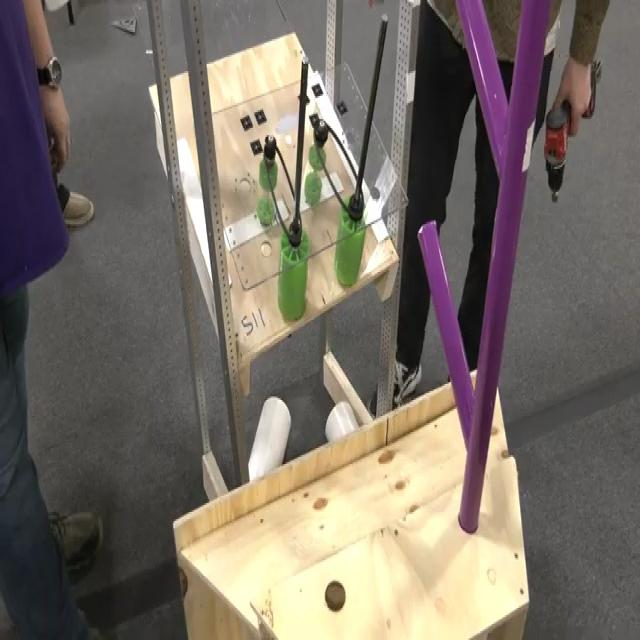Coral: (246, 393, 291, 482), (325, 401, 358, 440)
